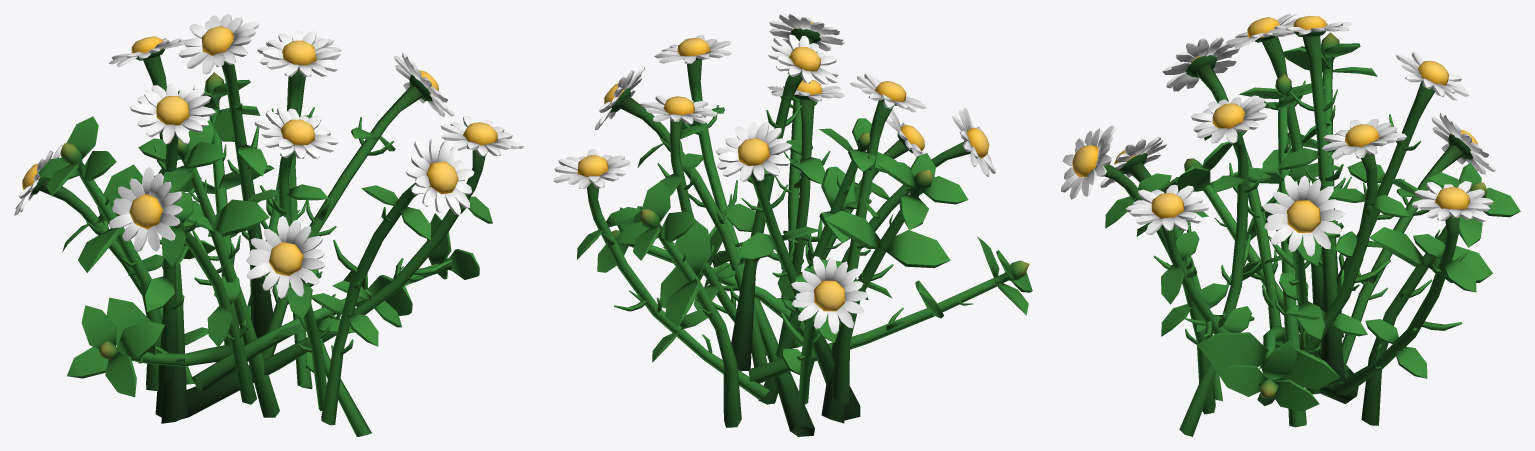
Rendered from SM_Plant_Daisy_Lv3.fbx.
3 renders of one model, left to right at view 1: azimuth 30°, elevation 25°; view 2: azimuth 150°, elevation 25°; view 3: azimuth 270°, elevation 25°, orthographic. The views are drawn at different scales.
Visible parts, largest first — view 1: SM_Plant_Daisy_Lv3; view 2: SM_Plant_Daisy_Lv3; view 3: SM_Plant_Daisy_Lv3.
Part boxes in pixels (<box>): SM_Plant_Daisy_Lv3: <box>14,14,524,436</box>; SM_Plant_Daisy_Lv3: <box>553,14,1032,436</box>; SM_Plant_Daisy_Lv3: <box>1061,14,1520,436</box>.
Size of the model in its own units: 58.95 by 52.89 by 55.77.
